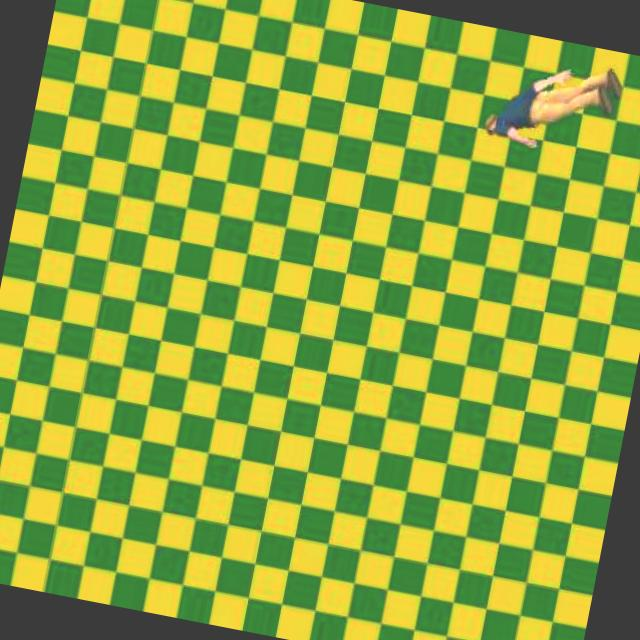Person: (478, 44, 634, 170)
